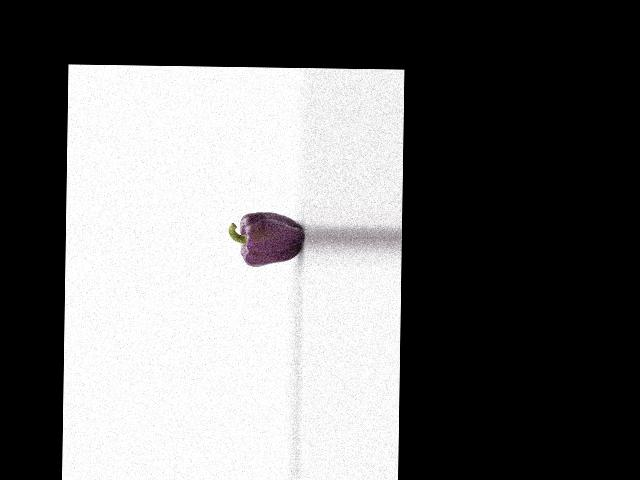bell_pepper: (229, 205, 303, 271)
